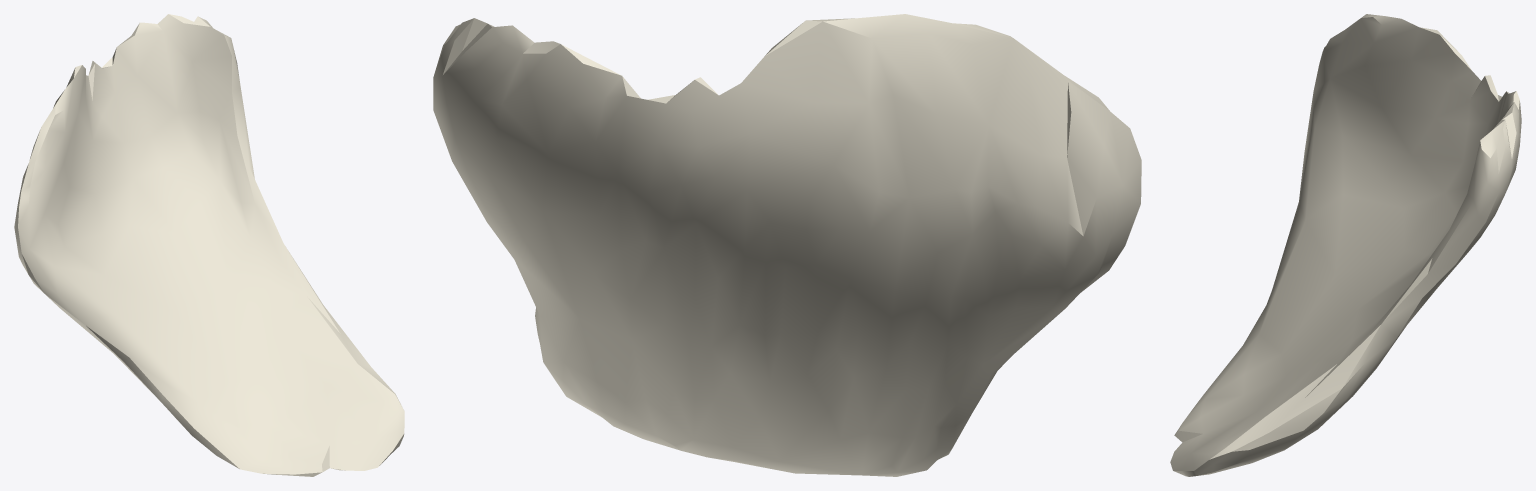
Rendered from fma321691-l_mm1472.glb.
3 views of the same model, side by side, from view 1: azimuth 30°, elevation 25°; view 2: azimuth 150°, elevation 25°; view 3: azimuth 270°, elevation 25° (orthographic). The views are drawn at different scales.
Visible parts, largest first — view 1: FMA321691-L_MM1472; view 2: FMA321691-L_MM1472; view 3: FMA321691-L_MM1472.
Part boxes in pixels (x1,y1,x2,y2): FMA321691-L_MM1472: (14,14,404,476); FMA321691-L_MM1472: (433,14,1141,476); FMA321691-L_MM1472: (1170,14,1521,476).
Bounding box in the file's own units: 0.0101 × 0.0101 × 0.00904.
